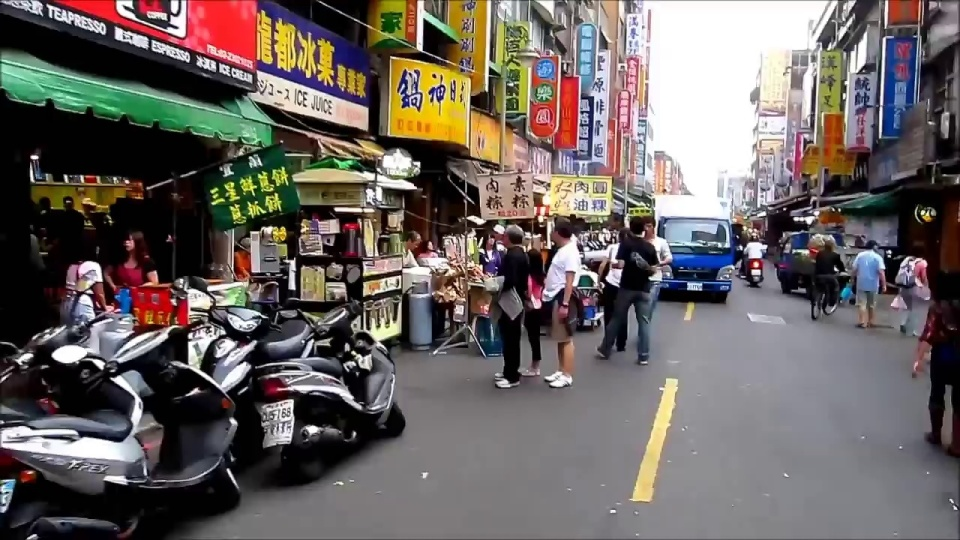person_head: (550, 215, 575, 249), (497, 221, 523, 250), (120, 224, 145, 254), (525, 244, 545, 280), (402, 231, 425, 252), (627, 214, 644, 240), (81, 236, 100, 258), (906, 240, 930, 257), (233, 230, 250, 252), (644, 214, 660, 237), (481, 227, 500, 246), (819, 234, 837, 252), (614, 224, 631, 243), (861, 240, 880, 255), (747, 227, 762, 244), (423, 240, 435, 252)
person_vbox: (909, 270, 960, 453), (594, 216, 652, 364), (541, 216, 582, 389), (492, 224, 525, 390), (59, 237, 117, 321), (103, 224, 159, 302), (893, 240, 936, 339), (599, 227, 628, 354), (849, 240, 891, 327), (639, 213, 672, 323), (516, 247, 543, 378), (805, 234, 845, 321), (737, 226, 766, 279), (232, 229, 250, 288), (480, 227, 501, 276), (397, 231, 422, 269), (414, 240, 447, 258)
